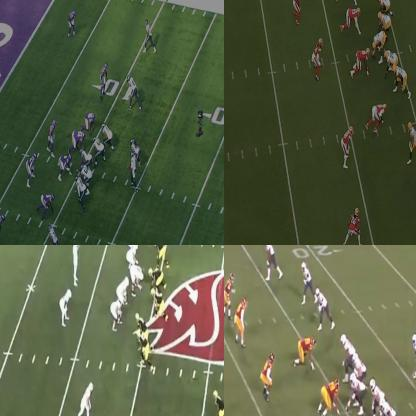CENTER: (348, 371, 363, 409), (129, 264, 145, 292), (372, 31, 386, 56), (79, 148, 91, 165)
DB: (100, 64, 110, 93), (68, 8, 78, 35), (214, 387, 223, 415), (0, 212, 5, 244)
LB: (236, 299, 248, 344), (262, 353, 274, 398), (343, 126, 354, 167), (224, 273, 234, 315), (24, 153, 36, 186), (137, 326, 146, 366), (314, 41, 323, 77), (49, 119, 57, 154), (296, 0, 304, 24)
QB: (130, 150, 137, 186), (72, 245, 79, 281)
SKILL: (316, 286, 334, 328), (345, 208, 362, 244), (264, 245, 279, 283), (77, 383, 94, 415), (60, 290, 72, 326), (301, 258, 311, 300), (128, 73, 140, 106), (407, 122, 415, 165), (146, 17, 156, 49), (50, 224, 62, 244), (132, 139, 139, 161), (412, 333, 415, 355)
